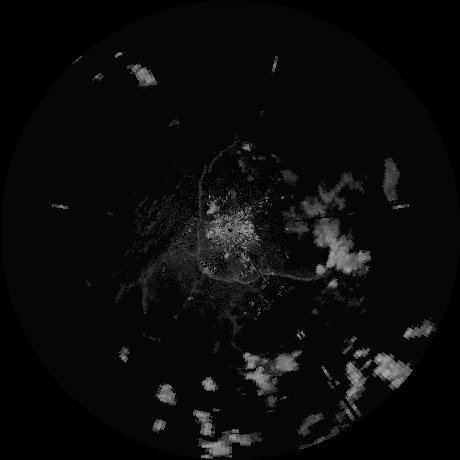frontgust: (195, 152, 224, 264), (204, 266, 320, 285)
